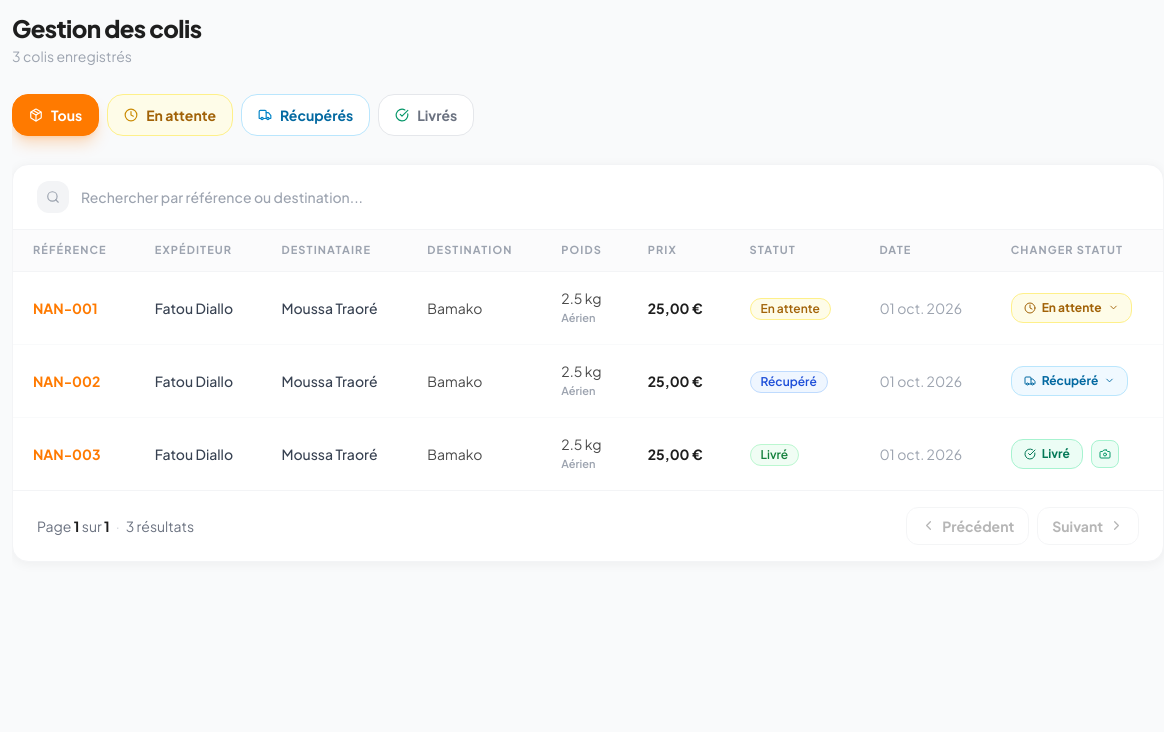
ColisPage — liste › appelle la liste paginée (page 1, 20 par page), puis la route du filtre choisi
This screenshot has width=1164, height=732.
Expected: the text "NAN-001" is shown, [33,298,98,318]
Click the button "Livrés". click: click(426, 115)
box: [378,94,474,136]
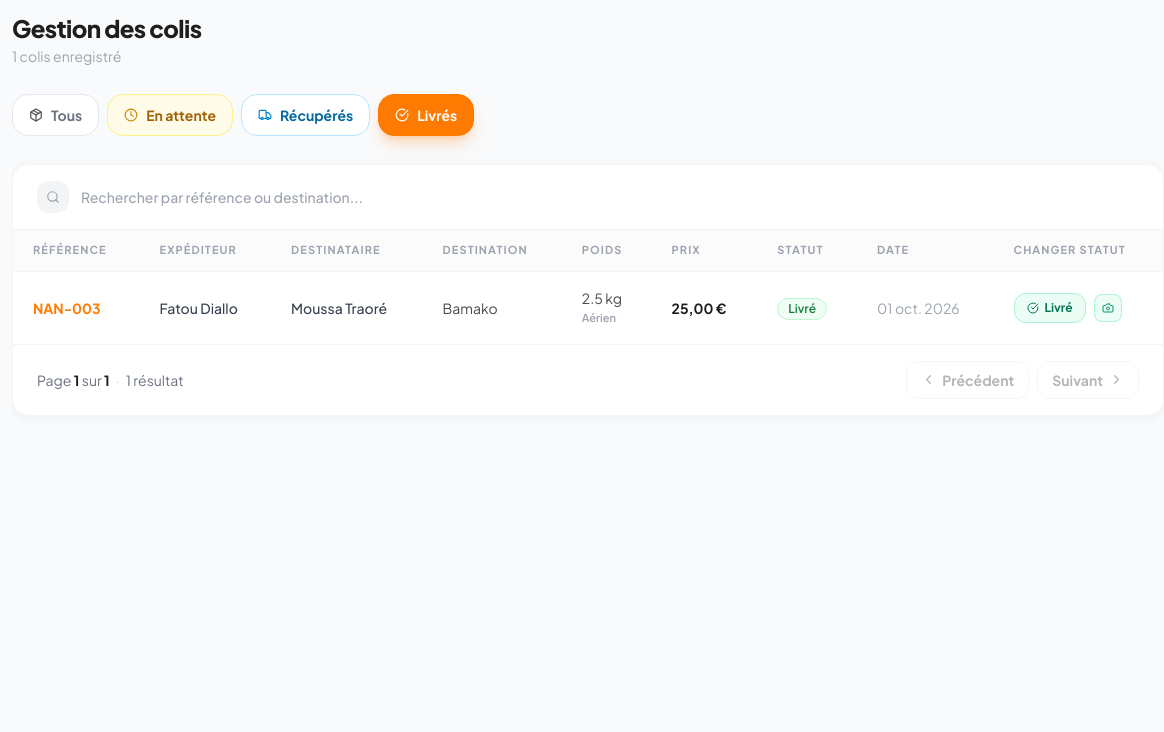
Expected: the text "NAN-001" is gone
